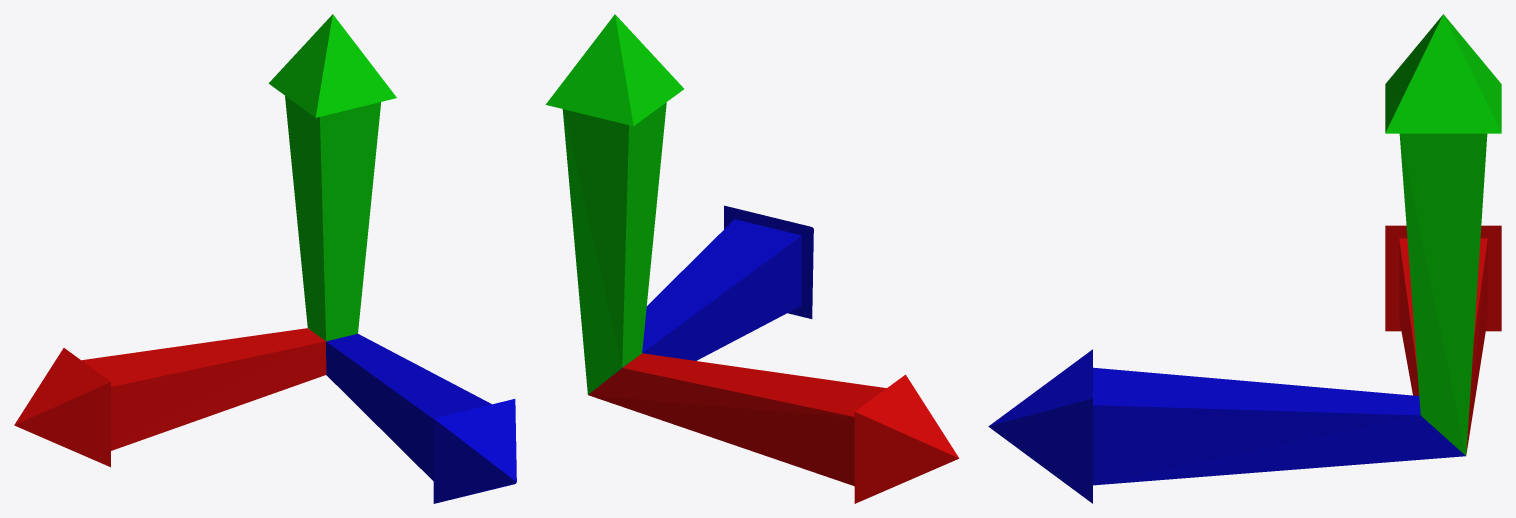
File: pivot.fbx
3 views of the same model, side by side, from view 1: azimuth 30°, elevation 25°; view 2: azimuth 150°, elevation 25°; view 3: azimuth 270°, elevation 25° (orthographic). The views are drawn at different scales.
Visible parts, largest first — view 1: root; view 2: root; view 3: root.
Part boxes in pixels (box(x1,y1,x2,y2)): root: box(14, 14, 516, 503); root: box(545, 14, 959, 503); root: box(988, 14, 1501, 503).
Bounding box in the file's own units: 73.55 × 73.55 × 73.55.
